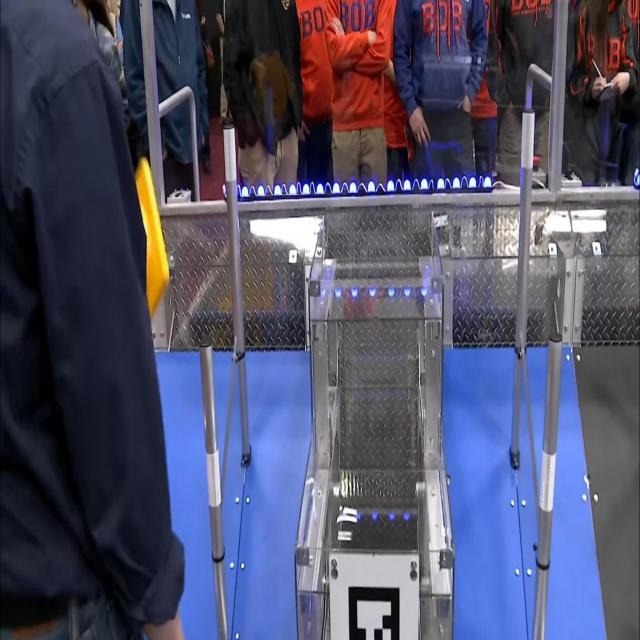frc_cone: (124, 158, 170, 332)
